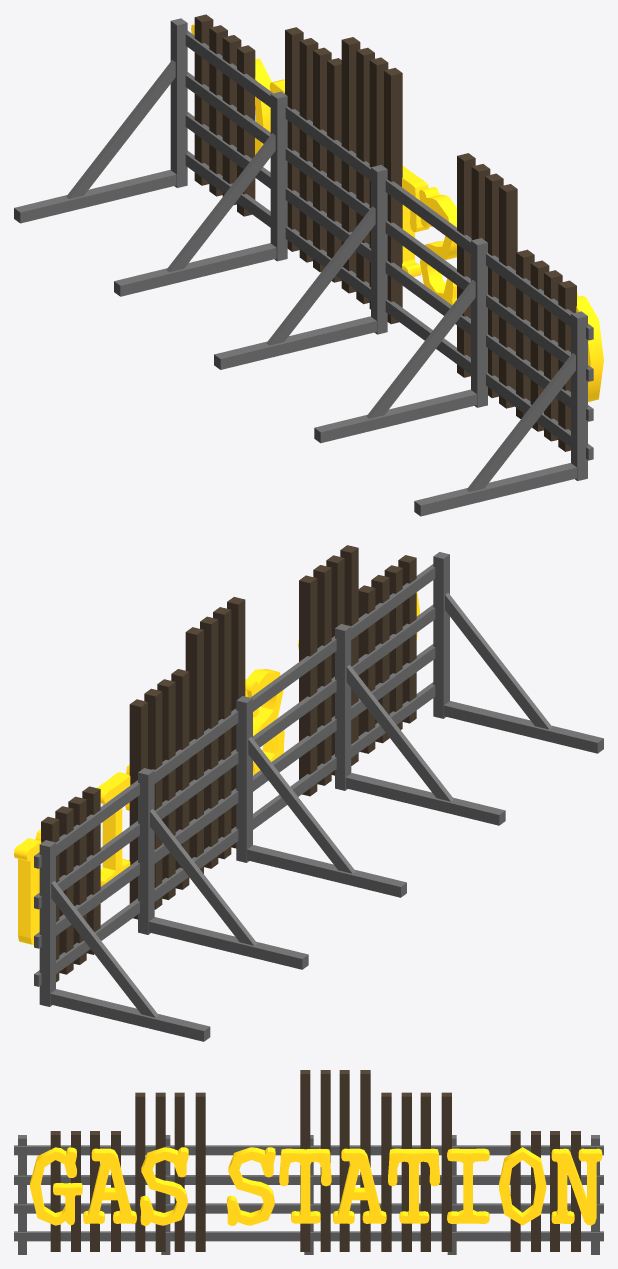
The model's file is SM_billboard_GasStationOld.gltf.
The picture shows the model from 3 angles, top to bottom: view 1: azimuth 30°, elevation 25°; view 2: azimuth 150°, elevation 25°; view 3: azimuth 270°, elevation 25°; orthographic projection. The views are drawn at different scales.
Visible parts, largest first — view 1: SM_billboard_GasStationOld; view 2: SM_billboard_GasStationOld; view 3: SM_billboard_GasStationOld.
Boxes of the visible parts, x1,y1,x2,y2 form: SM_billboard_GasStationOld: [14, 14, 603, 516]; SM_billboard_GasStationOld: [14, 545, 603, 1041]; SM_billboard_GasStationOld: [14, 1070, 603, 1254].
Bounding box in the file's own units: 1.11 × 1.43 × 4.12.
Materials: 1 (1 with a texture image).
